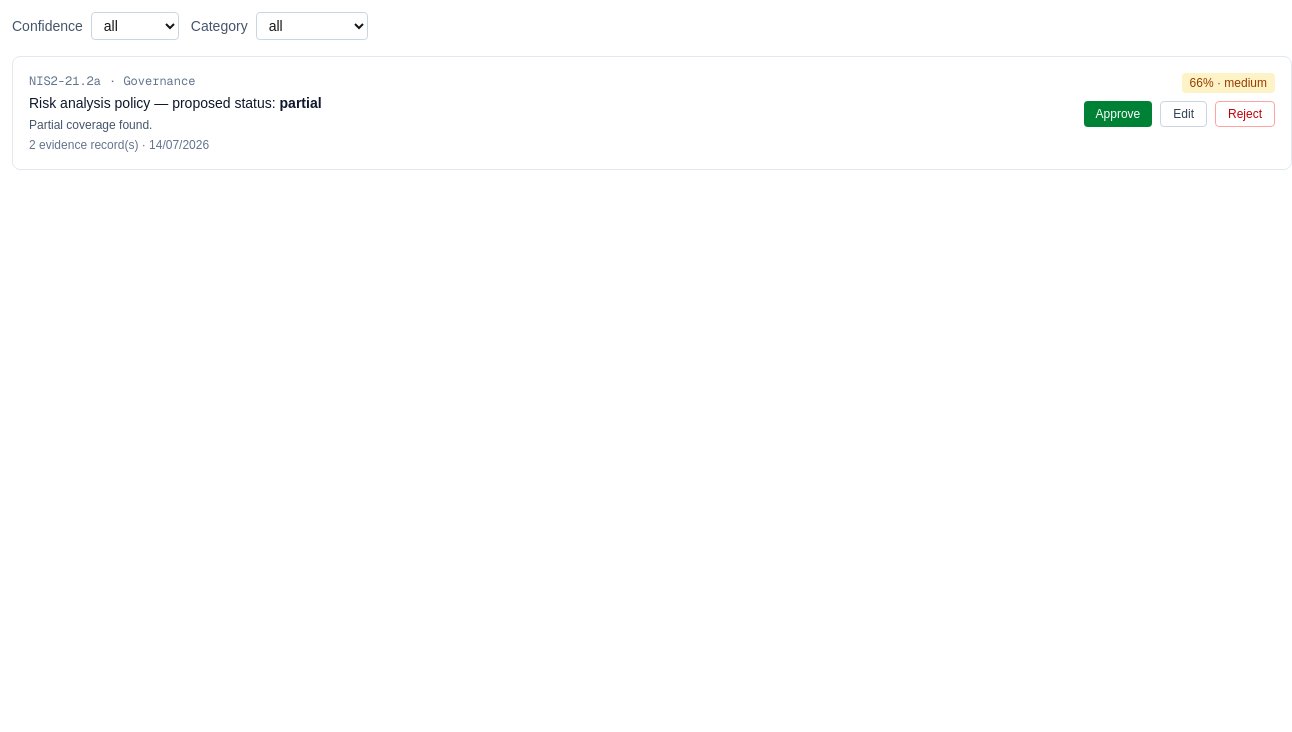
Scenario: RecommendationList › a string detail is shown verbatim and the row stays actionable
What coordinates should you click on to do the following:
click the button "Approve"
I would click on:
 (1118, 114)
Its box is [1084,101,1152,127].
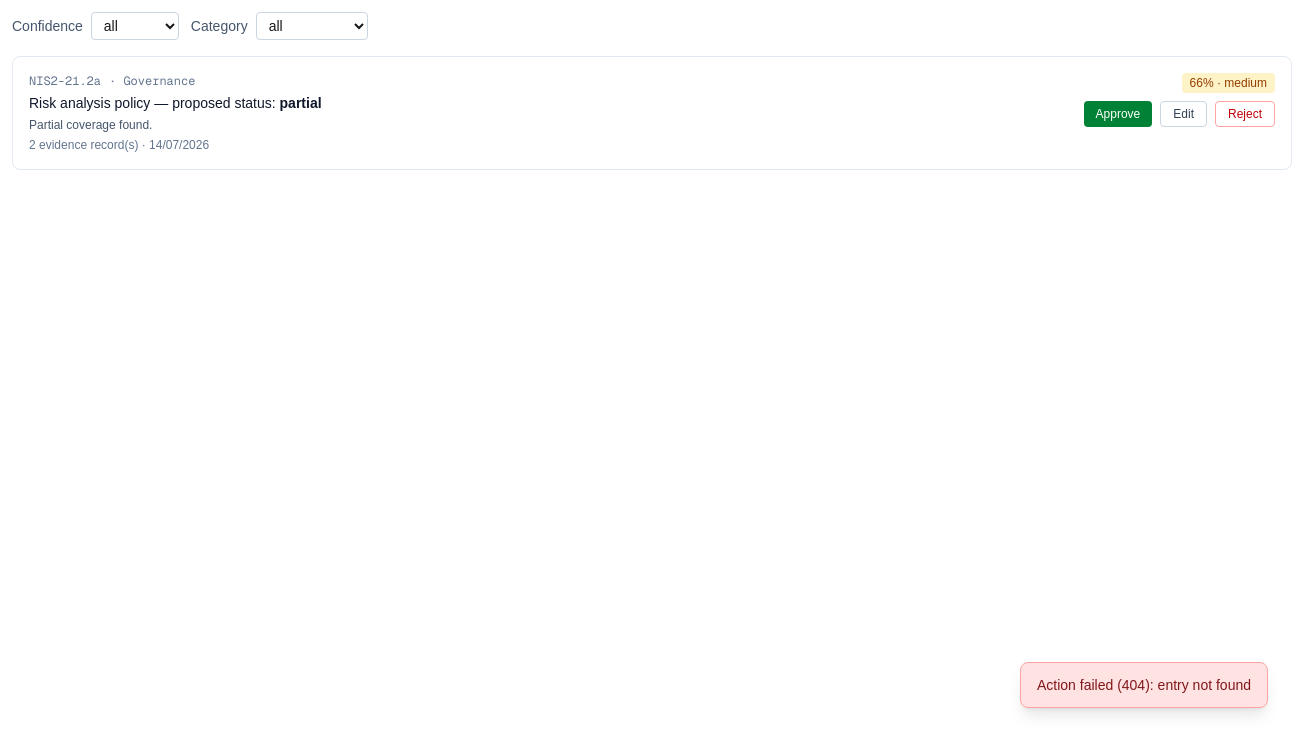
Result: the message reads "Action failed (404): entry not found" at [1037,677,1251,693]
